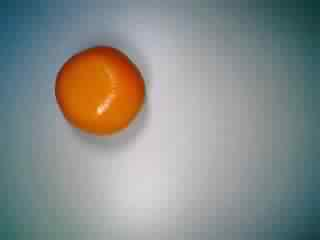orange: (51, 42, 147, 138)
